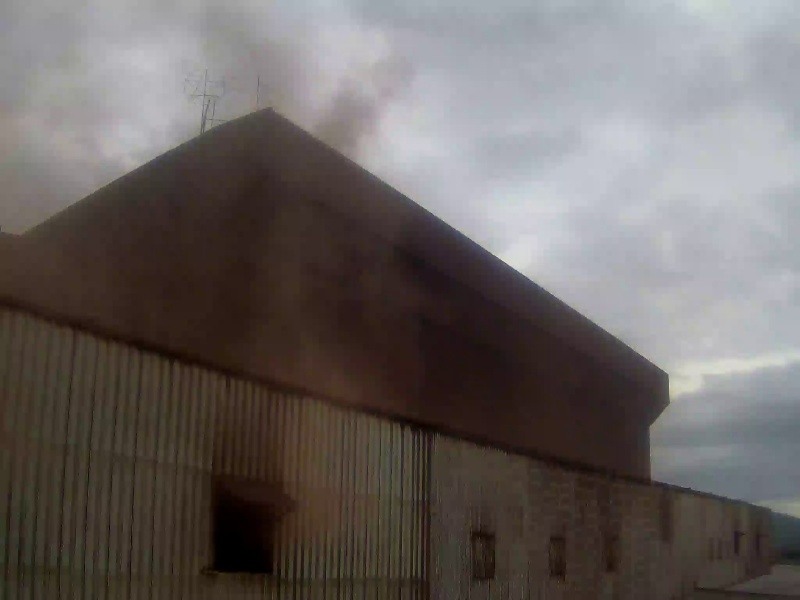pessimo: (1, 1, 429, 407)
ruim: (258, 28, 684, 466)
